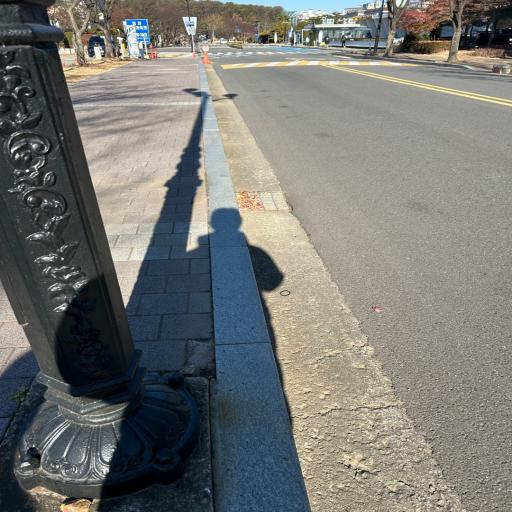debris: (264, 190, 268, 195)
drain: (236, 191, 293, 212)
